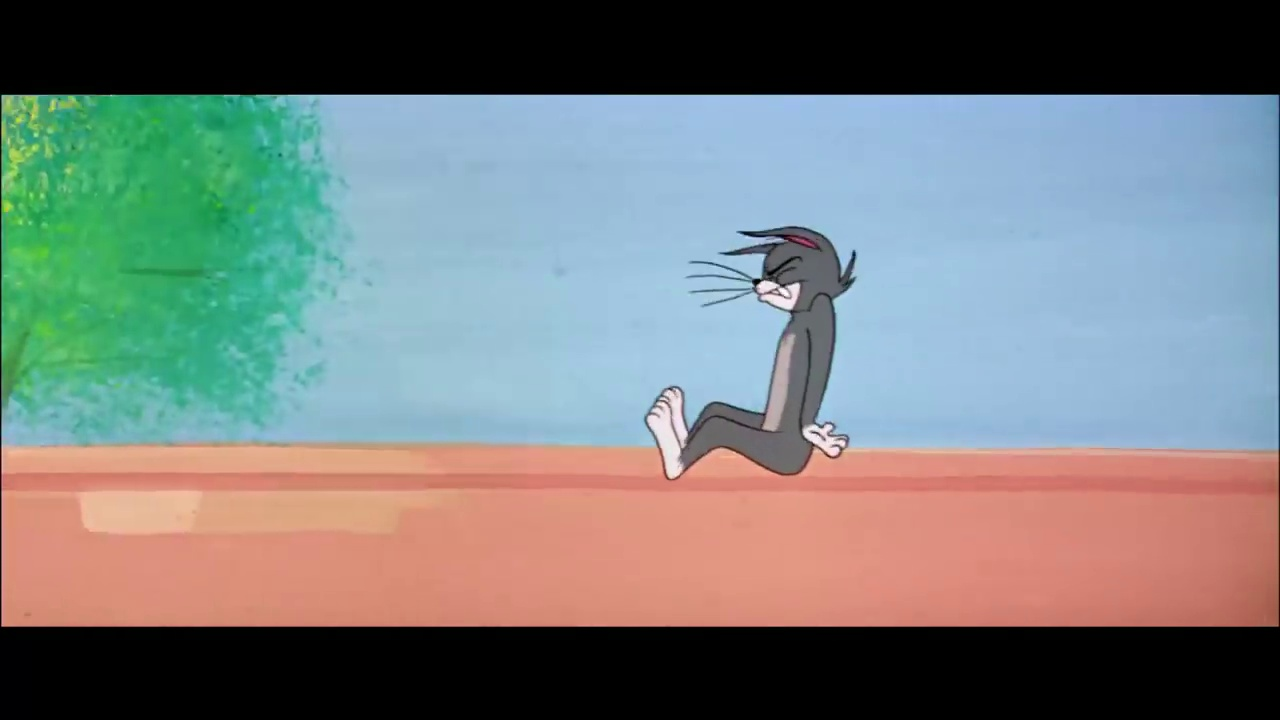tom: (707, 219, 863, 320)
